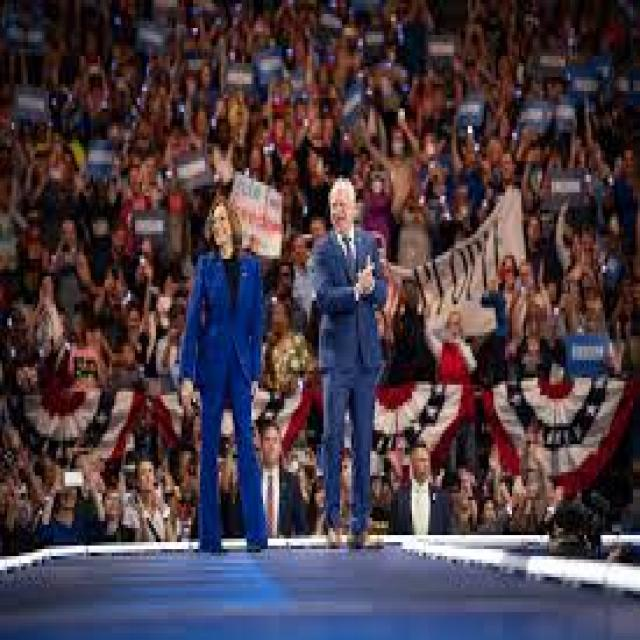stand: (307, 167, 401, 554), (192, 163, 280, 564)
